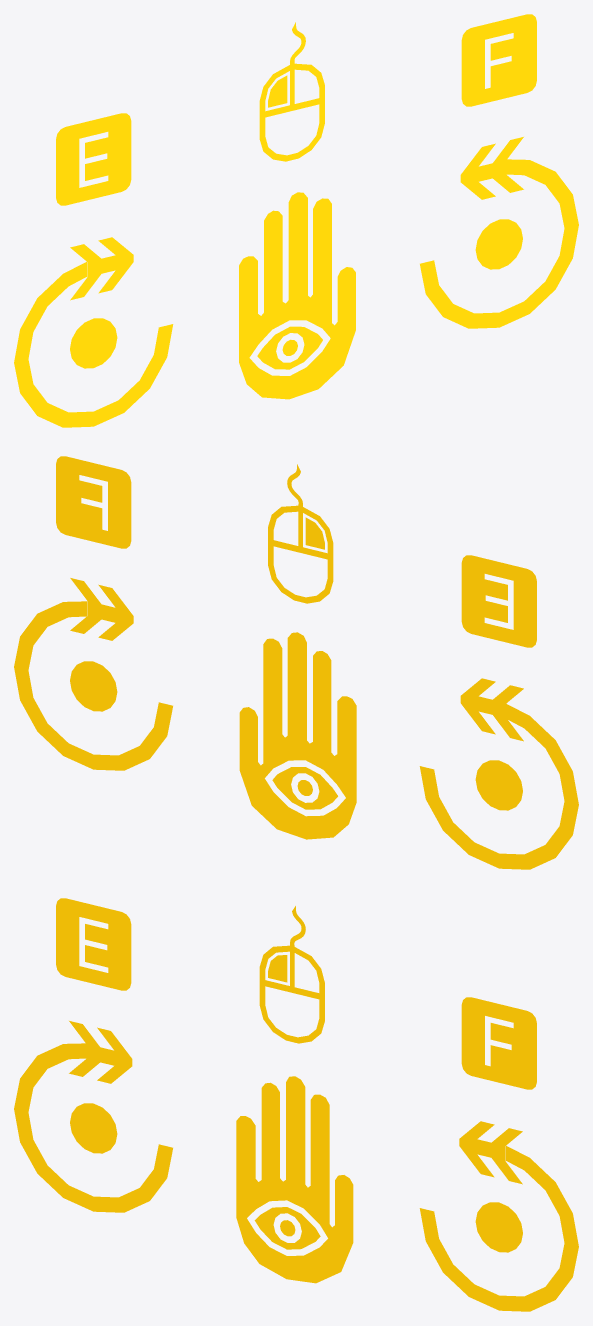
Rendered from mirrorSelectorHand.glb.
The picture shows the model from 3 angles, top to bottom: view 1: azimuth 30°, elevation 25°; view 2: azimuth 150°, elevation 25°; view 3: azimuth 330°, elevation 25°; orthographic projection.
Visible parts, largest first — view 1: selectorHand; view 2: selectorHand; view 3: selectorHand.
Boxes of the visible parts, x1,y1,x2,y2 form: selectorHand: [14, 14, 578, 427]; selectorHand: [14, 456, 578, 869]; selectorHand: [14, 898, 578, 1311].
Size of the model in its own units: 0.6963 by 0.4415 by 0.00284.
